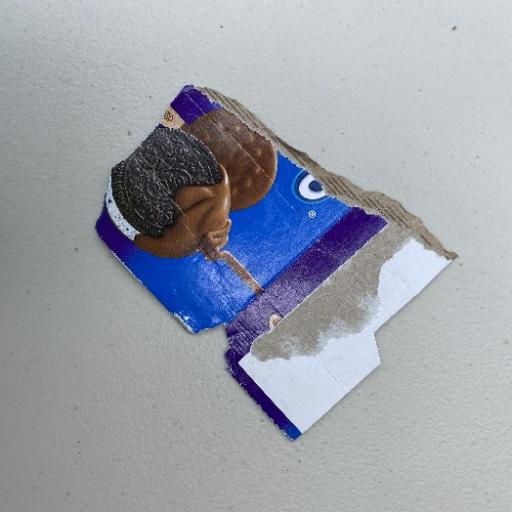Cardboard: (93, 83, 459, 442)
